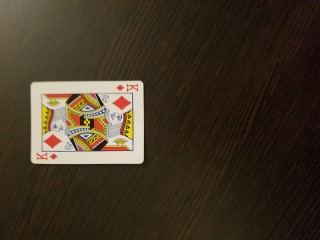KingOfDiamonds: (29, 80, 144, 167)
